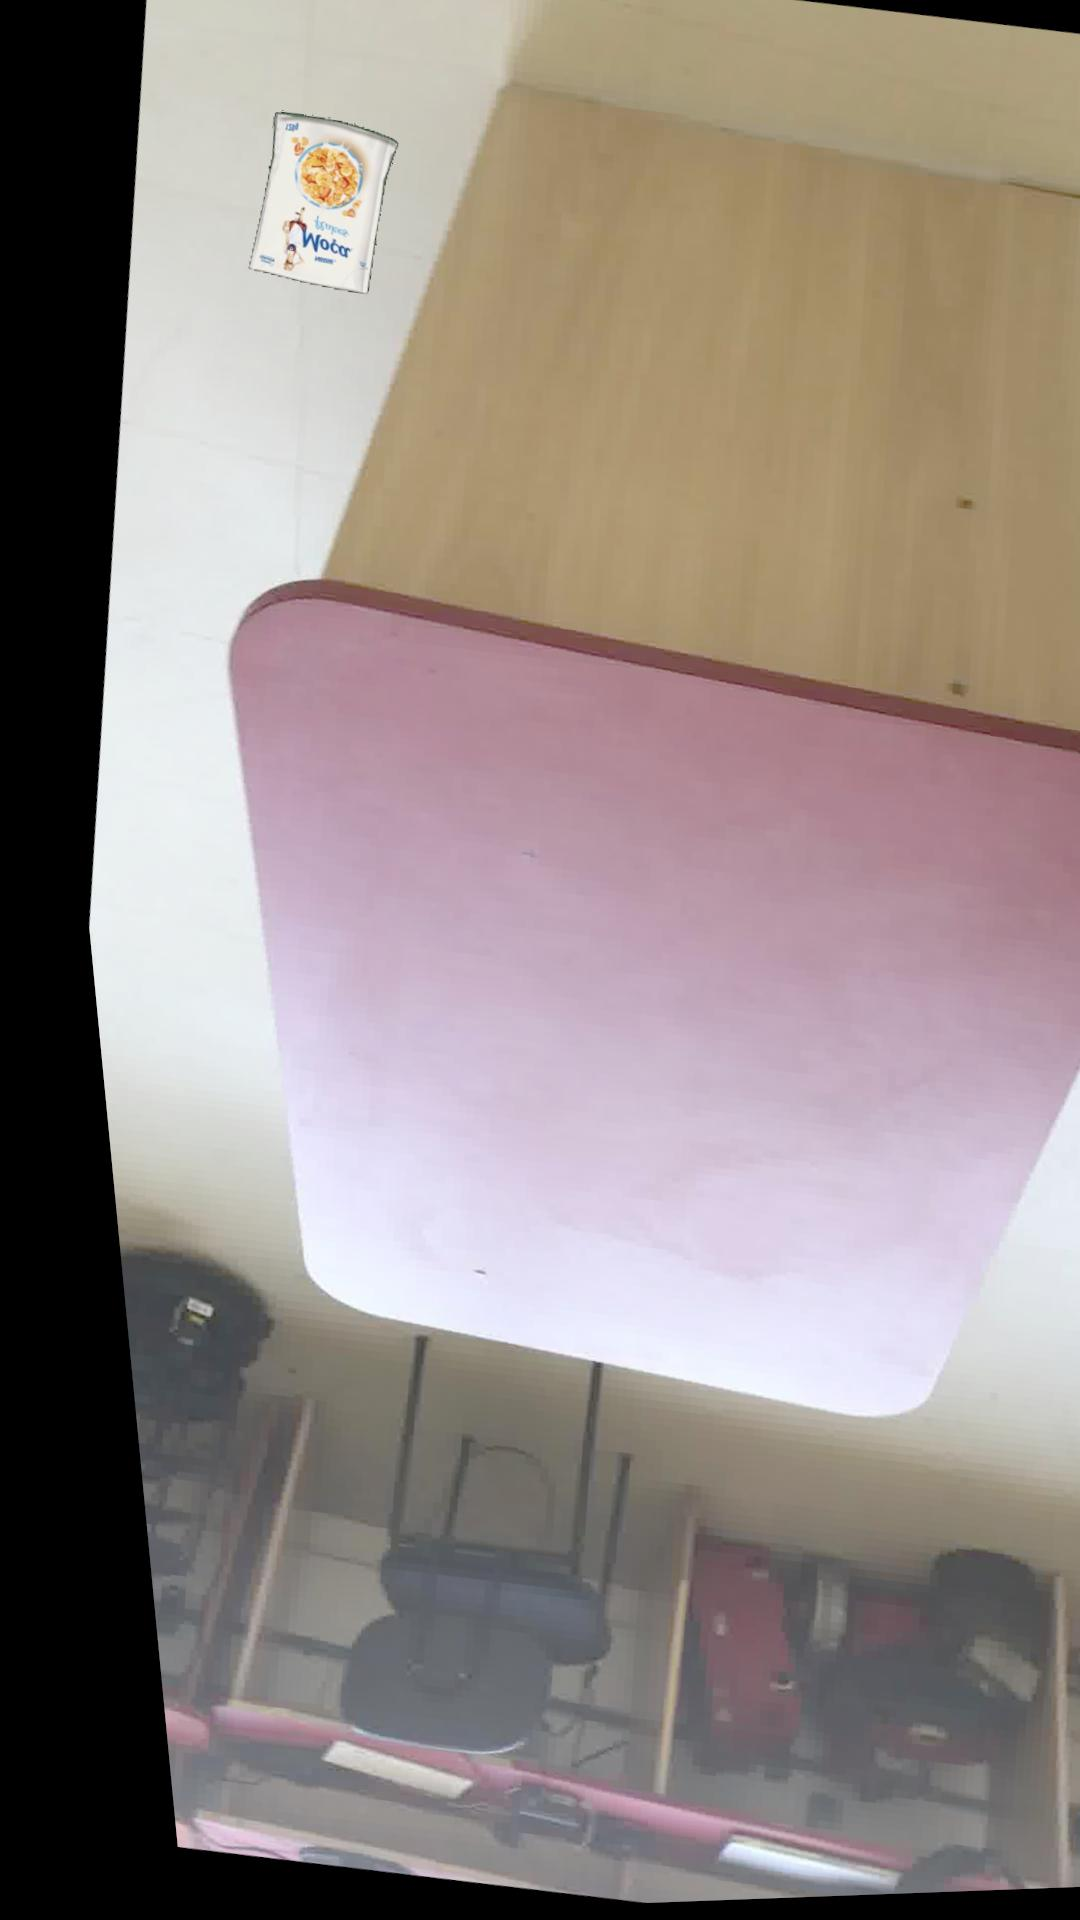corn flakes: (243, 113, 396, 297)
